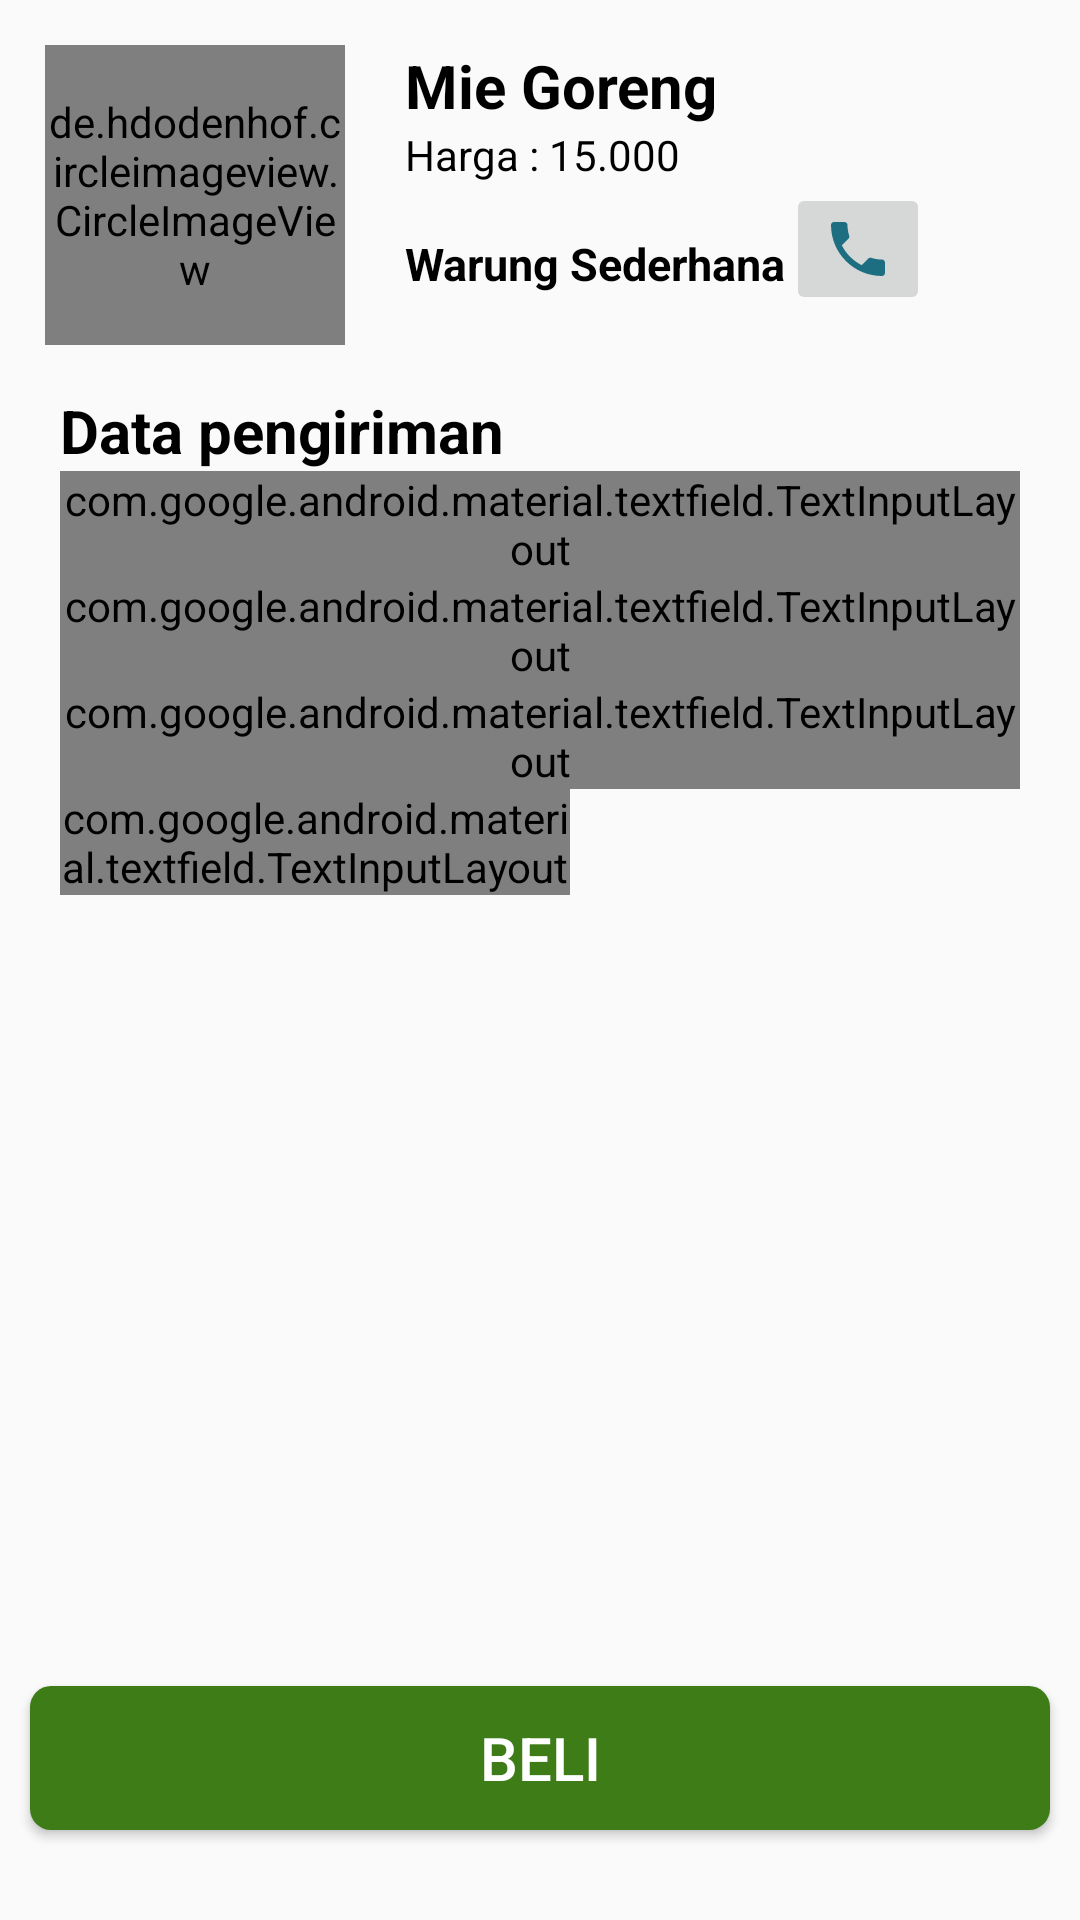

Where icons sit on this 1080x1920 app screen, as bbox=[x1, y1, x2, y2]:
imagephone: bbox=[798, 201, 918, 297]
